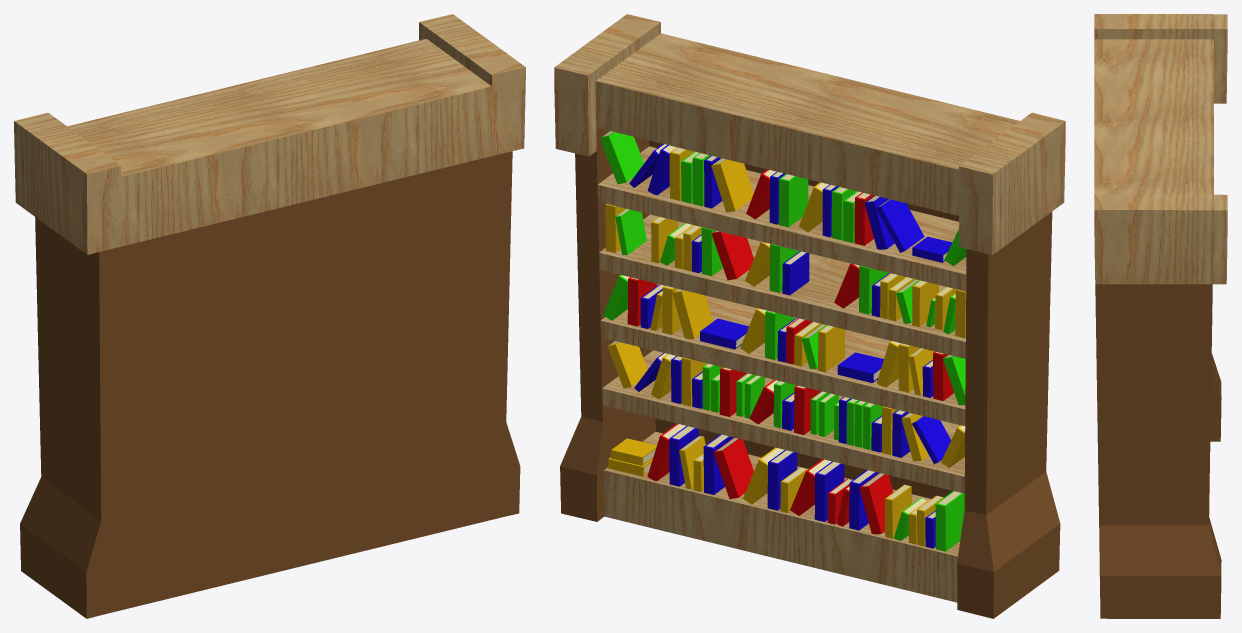
Rendered from BookCaseLargeBooks.fbx.
3 views of the same model, side by side, from view 1: azimuth 30°, elevation 25°; view 2: azimuth 150°, elevation 25°; view 3: azimuth 270°, elevation 25° (orthographic). The views are drawn at different scales.
Visible parts, largest first — view 1: BookCaseLargeBooks; view 2: BookCaseLargeBooks; view 3: BookCaseLargeBooks.
Part boxes in pixels (left/top/right/bottom): BookCaseLargeBooks: left=14, top=14, right=525, bottom=618; BookCaseLargeBooks: left=554, top=14, right=1065, bottom=618; BookCaseLargeBooks: left=1094, top=14, right=1227, bottom=618.
Size of the model in its own units: 157 by 153 by 45.19.
